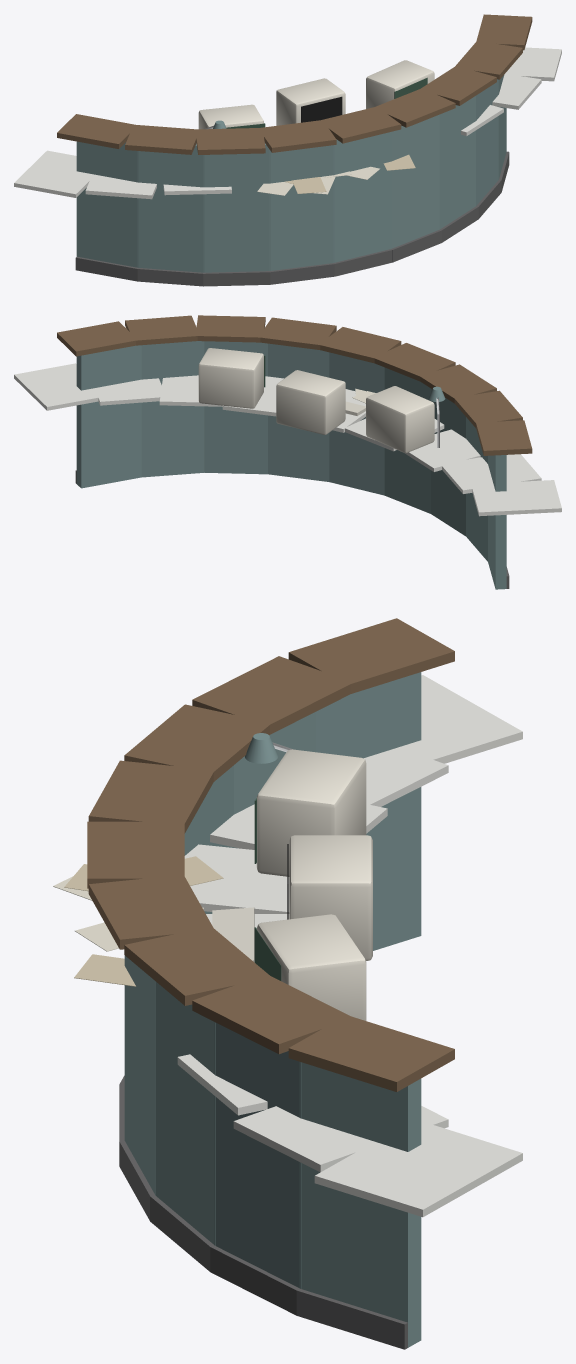
File: security_desk.glb
The picture shows the model from 3 angles, top to bottom: view 1: azimuth 30°, elevation 25°; view 2: azimuth 150°, elevation 25°; view 3: azimuth 270°, elevation 25°; orthographic projection. The views are drawn at different scales.
Visible parts, largest first — view 1: security_desk; view 2: security_desk; view 3: security_desk.
Part boxes in pixels (<box>): security_desk: <box>14,14,561,286</box>; security_desk: <box>14,315,561,589</box>; security_desk: <box>53,618,522,1349</box>.
Size of what is drawn, in the model's own units: 4.54 by 1.17 by 1.69.
